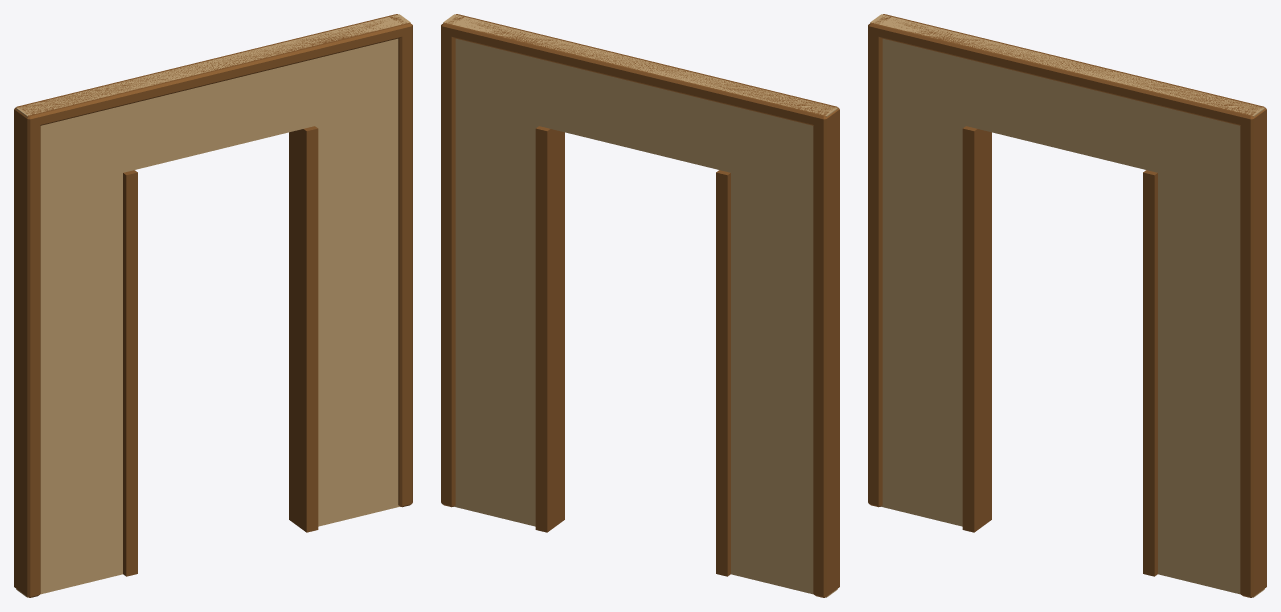
Rendered from wall_doorway.glb.
3 renders of one model, left to right at view 1: azimuth 30°, elevation 25°; view 2: azimuth 150°, elevation 25°; view 3: azimuth 330°, elevation 25°, orthographic.
Parts seen in each view (by area): view 1: wall_doorway; view 2: wall_doorway; view 3: wall_doorway.
Part boxes in pixels (<box>): wall_doorway: <box>14,14,412,597</box>; wall_doorway: <box>441,14,839,597</box>; wall_doorway: <box>868,14,1266,597</box>.
Bounding box in the file's own units: 2.01 × 2.4 × 0.16.
